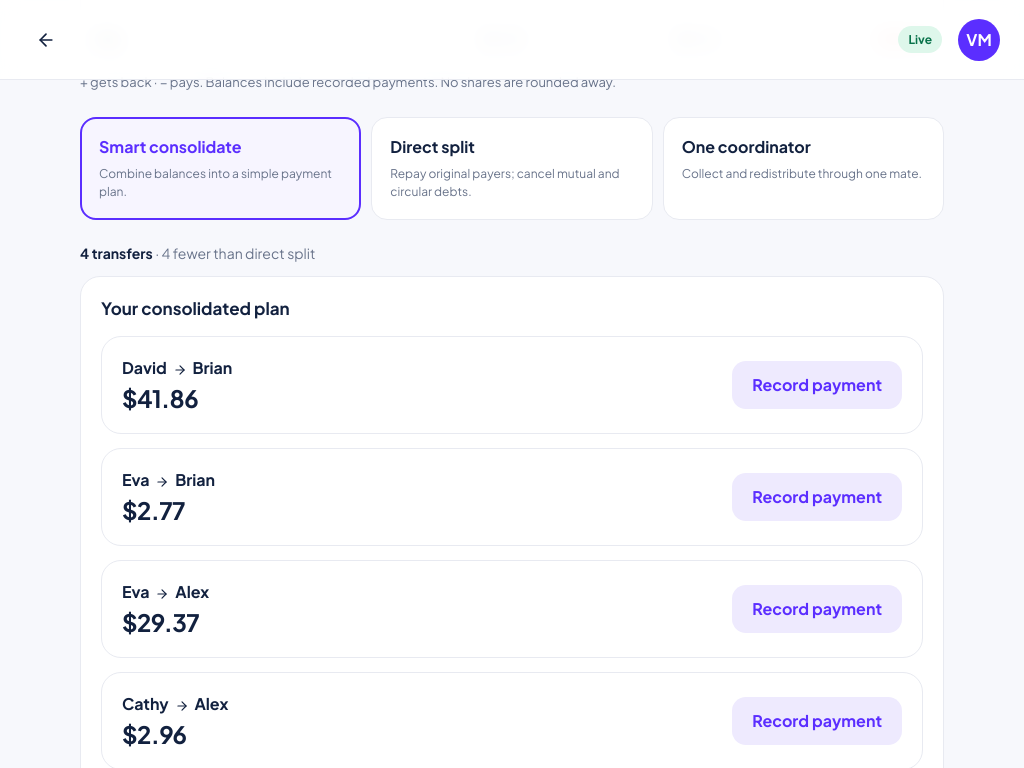
keeps payment confirmation available when recording fails
(page scrolled)
Click the 1st button "Record payment". click: (817, 385)
box: [732,361,902,409]
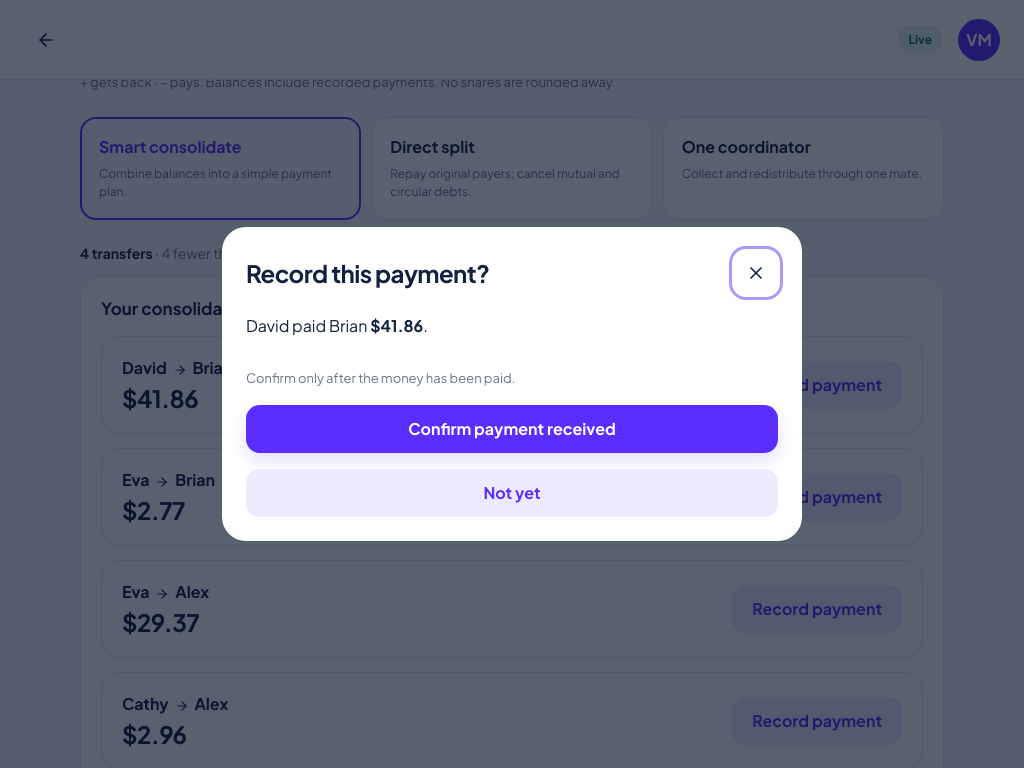
Click the button "Confirm payment received". click: (512, 429)
box: [246,405,778,453]
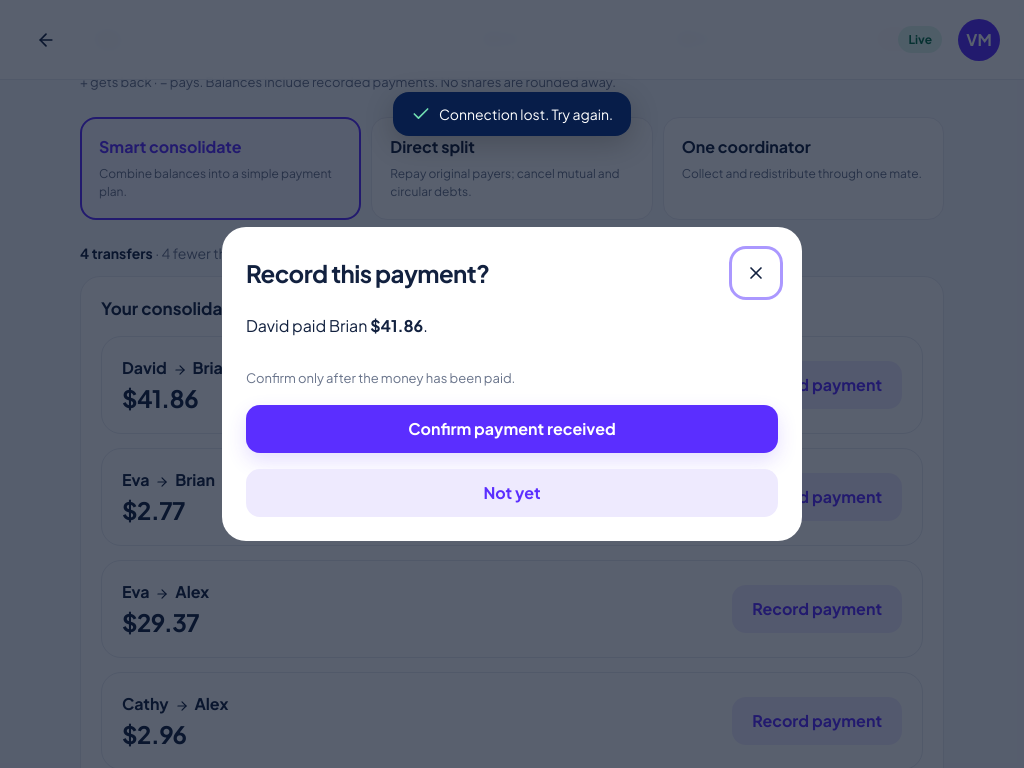
Result: the dialog is shown
Result: the button "Confirm payment received" is enabled at [246,405,778,453]
Result: the message reads "Connection lost. Try again." at [439,105,613,123]
